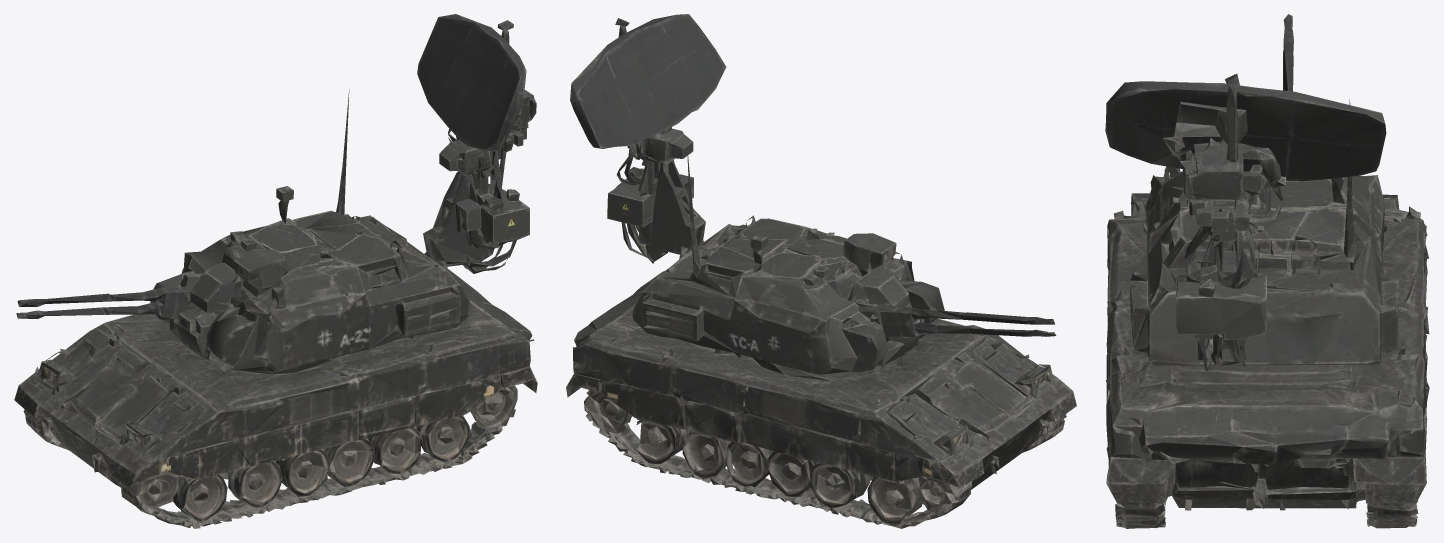
3 views of the same model, side by side, from view 1: azimuth 30°, elevation 25°; view 2: azimuth 150°, elevation 25°; view 3: azimuth 270°, elevation 25° (orthographic). The views are drawn at different scales.
Parts seen in each view (by area): view 1: Mesh_0; view 2: Mesh_0; view 3: Mesh_0.
Part boxes in pixels (bbox=[...]): Mesh_0: bbox=[14, 14, 537, 528]; Mesh_0: bbox=[566, 14, 1076, 528]; Mesh_0: bbox=[1105, 14, 1429, 528].
Bounding box in the file's own units: 1.9 × 1.48 × 0.8482.
Materials: 1 (1 with a texture image).
